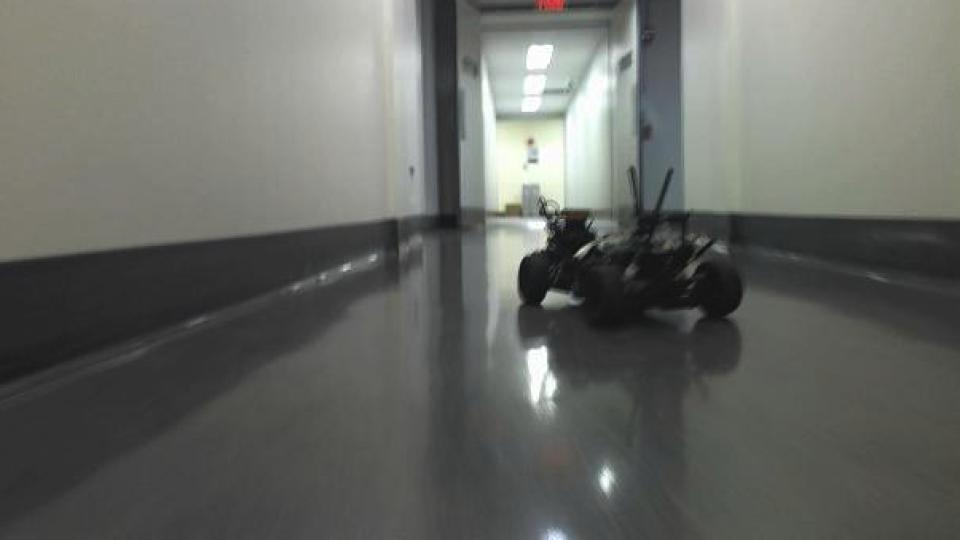car: (514, 163, 746, 331)
